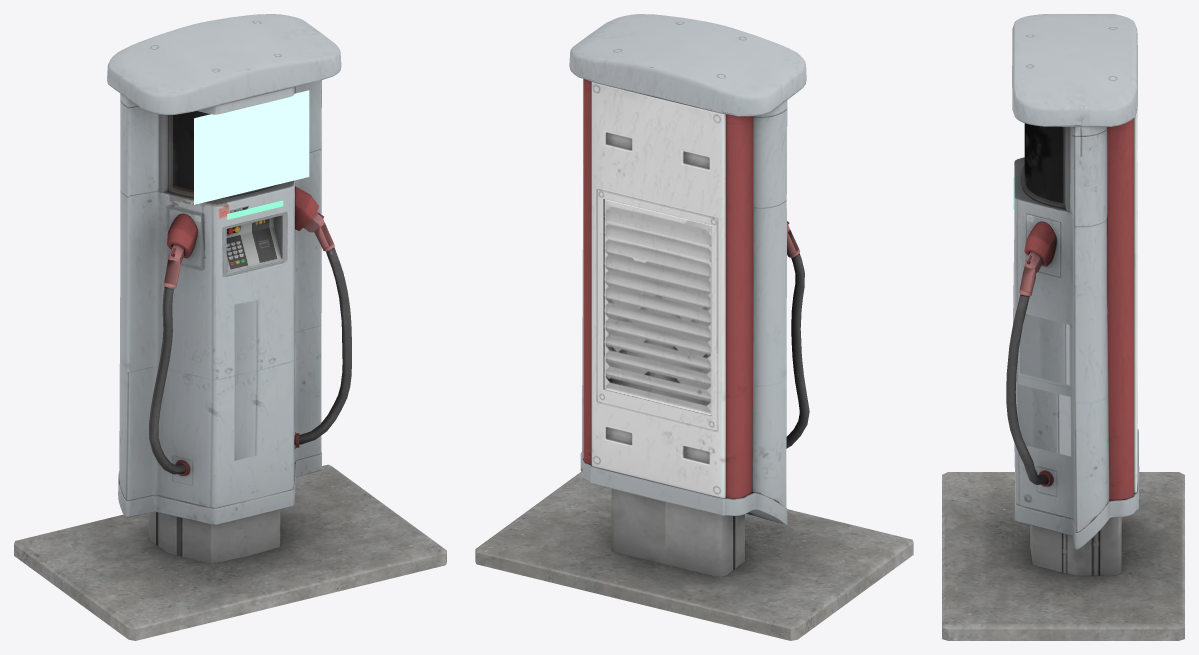
The model's file is ladesaeule_lod1.glb.
The picture shows the model from 3 angles, left to right: view 1: azimuth 30°, elevation 25°; view 2: azimuth 150°, elevation 25°; view 3: azimuth 270°, elevation 25°; orthographic projection.
Parts seen in each view (by area): view 1: Frontpanel, Sockel, Gehaeuse, ladesaeule_display, Korpus, Kabel, Stecker; view 2: Korpus, Sockel, Gehaeuse, Frontpanel, Kabel; view 3: Sockel, Frontpanel, Gehaeuse, Korpus, Kabel, Stecker.
Part boxes in pixels (x1,y1,x2,y2): Frontpanel: (119, 80, 321, 508); Sockel: (14, 213, 446, 640); Gehaeuse: (107, 14, 341, 524); ladesaeule_display: (194, 90, 309, 204); Korpus: (148, 111, 334, 563); Kabel: (149, 254, 351, 474); Stecker: (167, 186, 318, 475); Korpus: (591, 82, 800, 576); Sockel: (475, 79, 913, 640); Gehaeuse: (569, 14, 806, 525); Frontpanel: (582, 79, 787, 508); Kabel: (786, 253, 809, 448); Sockel: (942, 118, 1184, 640); Frontpanel: (1013, 127, 1109, 532); Gehaeuse: (1012, 14, 1139, 549); Korpus: (1019, 109, 1137, 575); Kabel: (1006, 301, 1048, 484); Stecker: (1024, 221, 1056, 486).
Size of the model in its own units: 1.14 by 1.75 by 0.75.
Materials: 3 (1 with a texture image).
